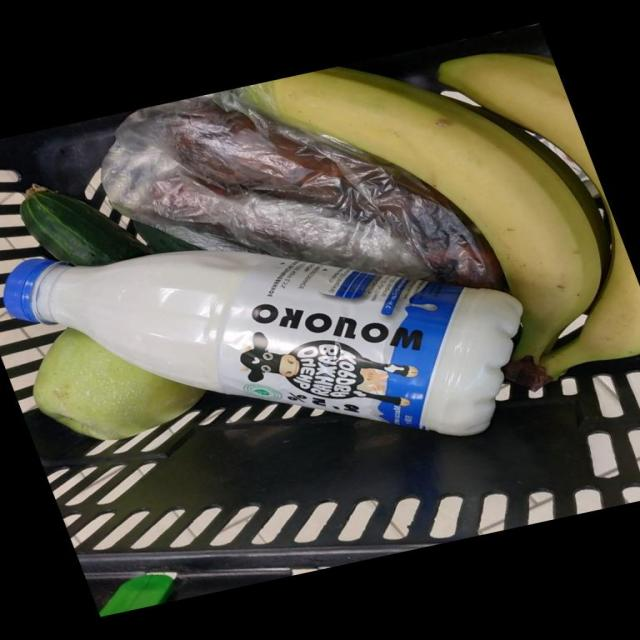apple: (96, 195, 233, 563)
banana: (127, 59, 459, 195), (280, 27, 640, 81)
cucumber: (24, 94, 57, 279)
milk: (244, 148, 640, 430)
